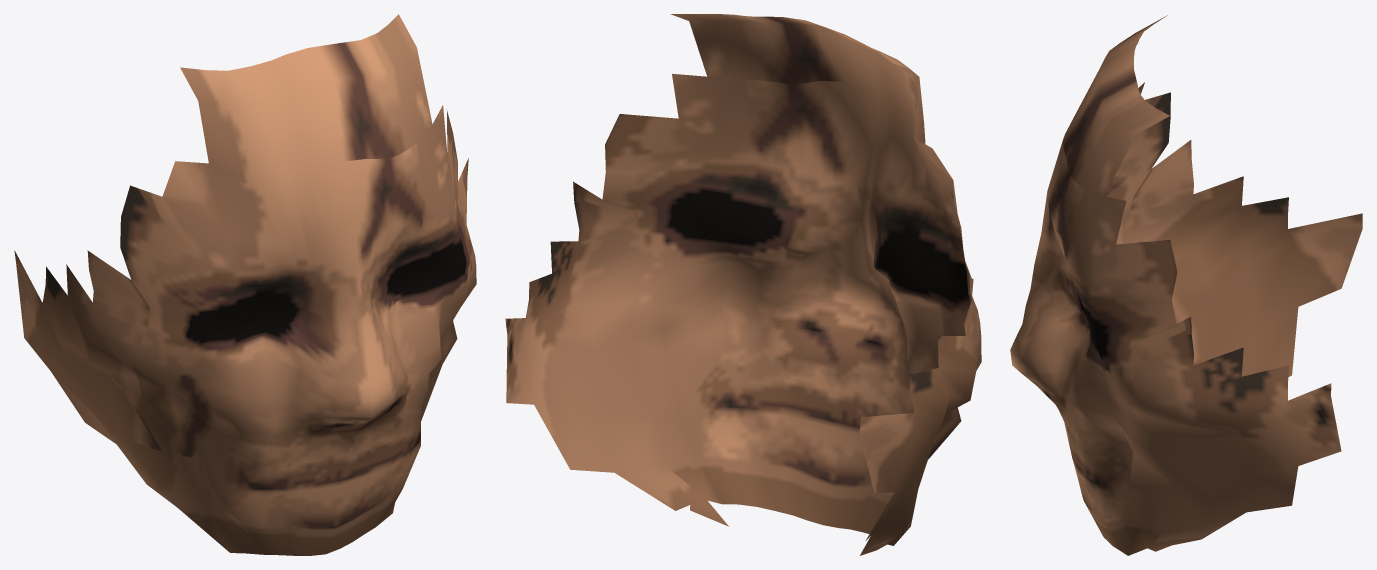
The model's file is rayGhoul.glb.
3 views of the same model, side by side, from view 1: azimuth 30°, elevation 25°; view 2: azimuth 150°, elevation 25°; view 3: azimuth 270°, elevation 25° (orthographic). The views are drawn at different scales.
Parts seen in each view (by area): view 1: RayHead; view 2: RayHead; view 3: RayHead.
Part boxes in pixels (bbox=[...]): RayHead: bbox=[14, 14, 476, 555]; RayHead: bbox=[505, 14, 981, 555]; RayHead: bbox=[1010, 15, 1362, 555].
Bounding box in the file's own units: 0.2345 × 0.2878 × 0.1957.
Materials: 1 (1 with a texture image).
